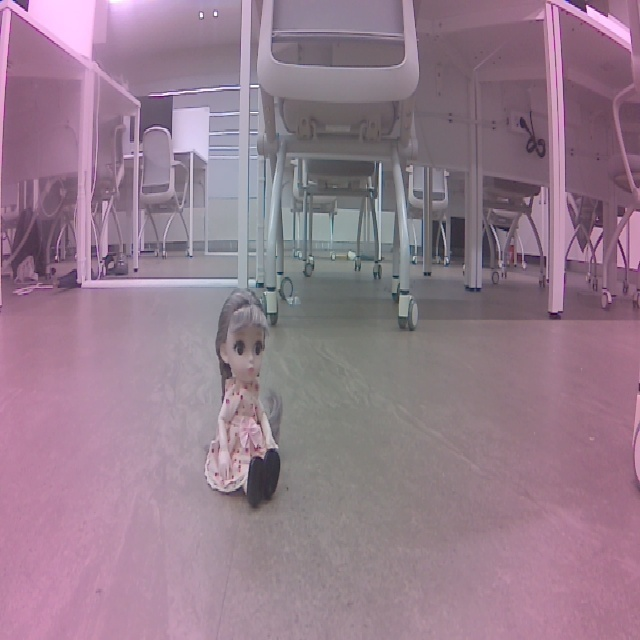장애물: (199, 285, 290, 512)
